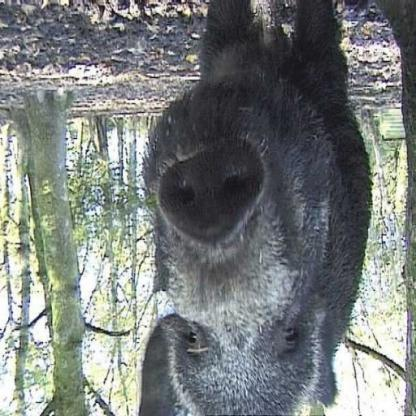boar: (92, 11, 402, 416)
